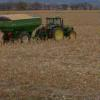Tractor: (5, 10, 80, 42)
